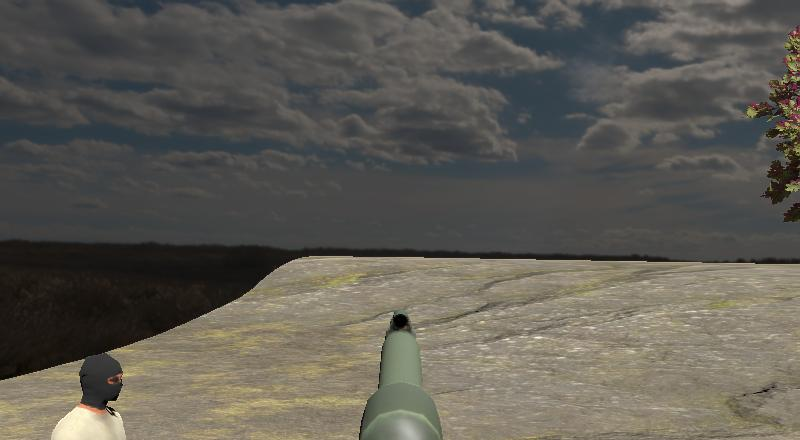Human: (34, 347, 145, 440)
